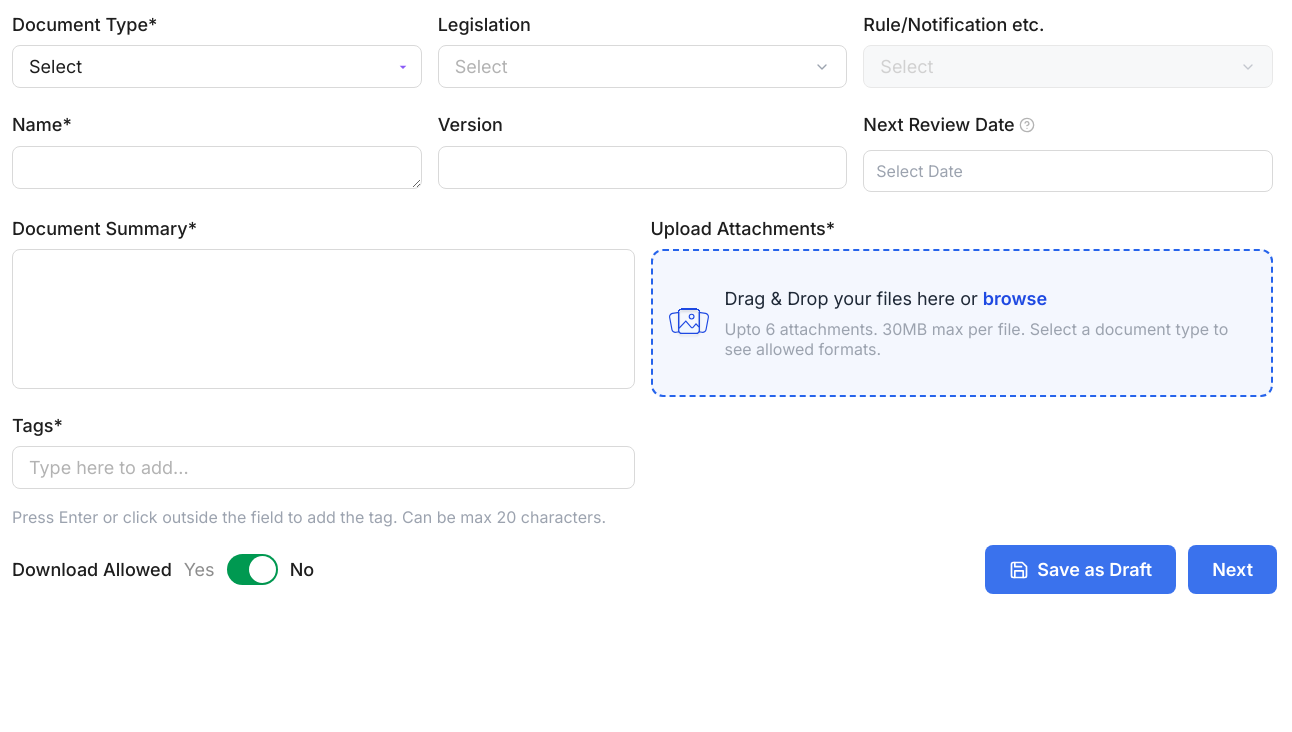
Scenario: OrchestrationAddDocumentModalStepOne › shows 'Document Type is required' error on submit with empty form
The width and height of the screenshot is (1292, 732).
Step 1. Click the button "Next" → point(1233, 570), box [1188,545,1277,594]
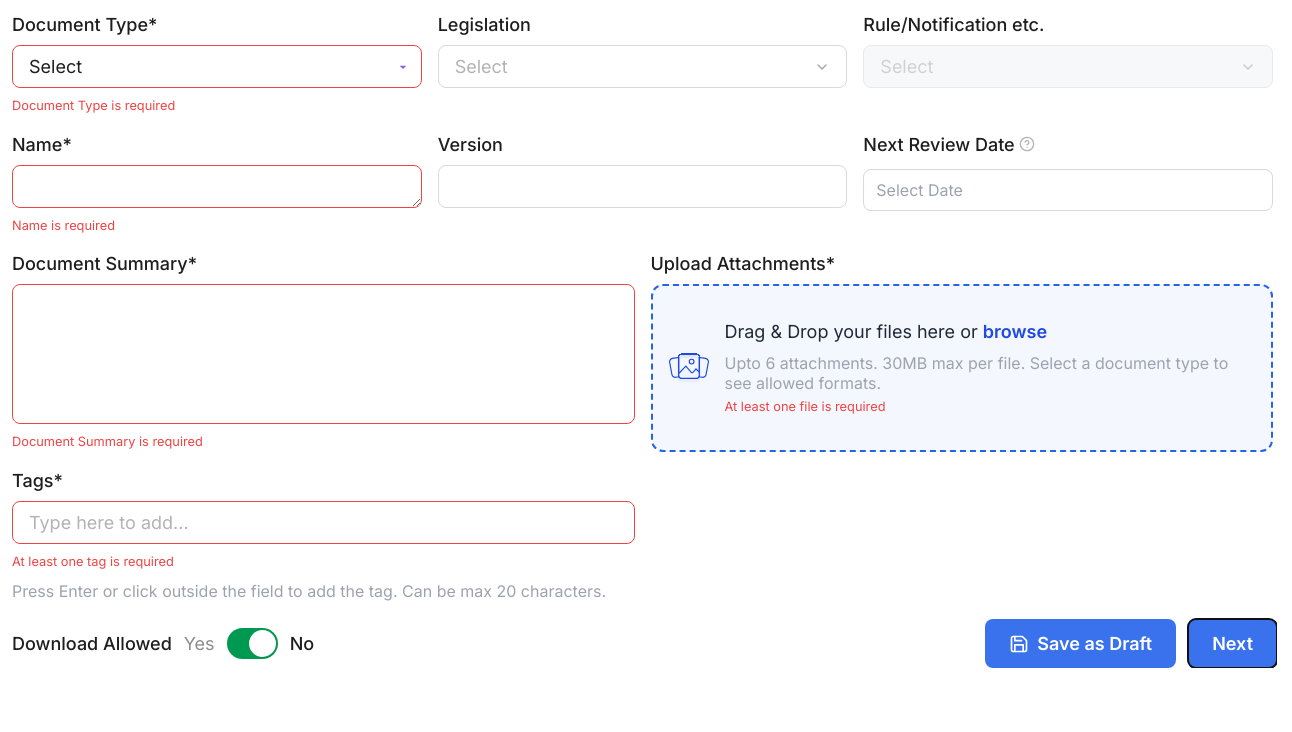
Check: the text "Document Type is required" is shown, box [12,98,175,113]
